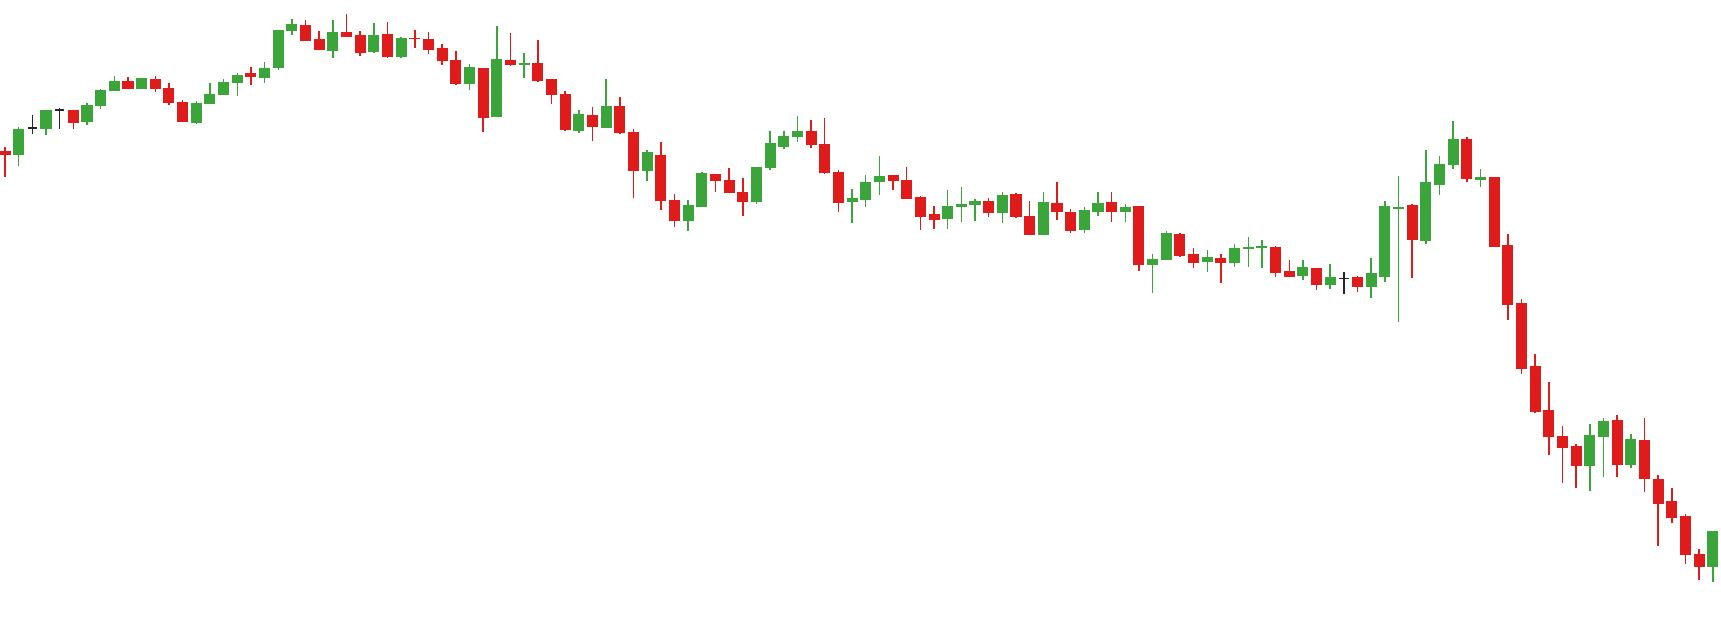sell: (653, 118, 819, 178)
